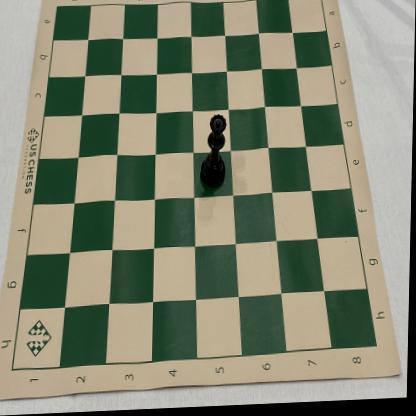black-queen: (200, 116, 228, 192)
